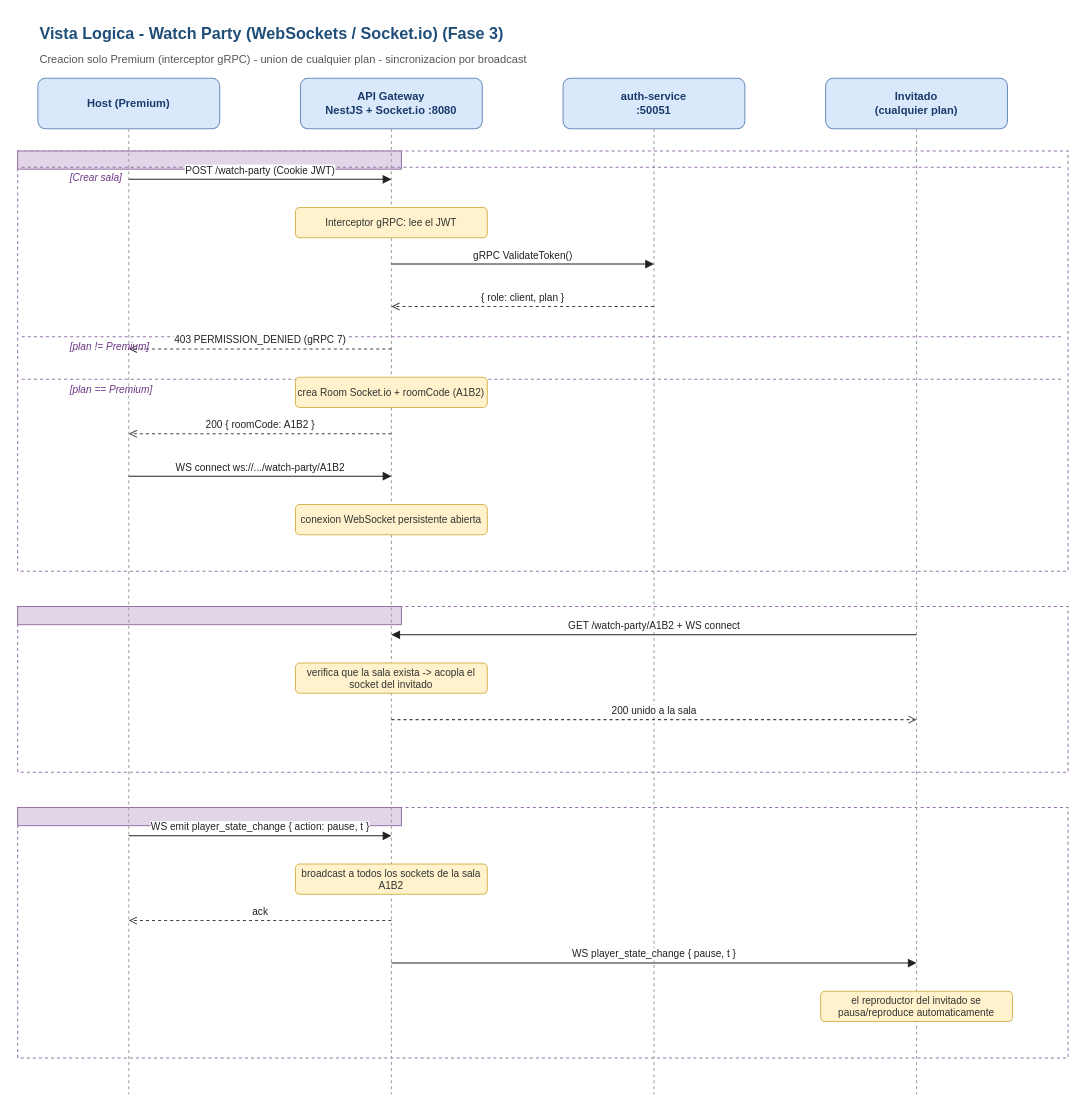
This 1086x1113 diagram has some shape labels left out. The box of each missing label's shape, as (x1, y1, x2, y2) in pixels:
alt - Crear Watch Party (solo Premium): (17, 150, 401, 169)
loop - Sincronizacion de estado [play / pause / seek]: (17, 806, 401, 826)
Unirse a la sala (cualquier plan): (17, 605, 401, 625)
